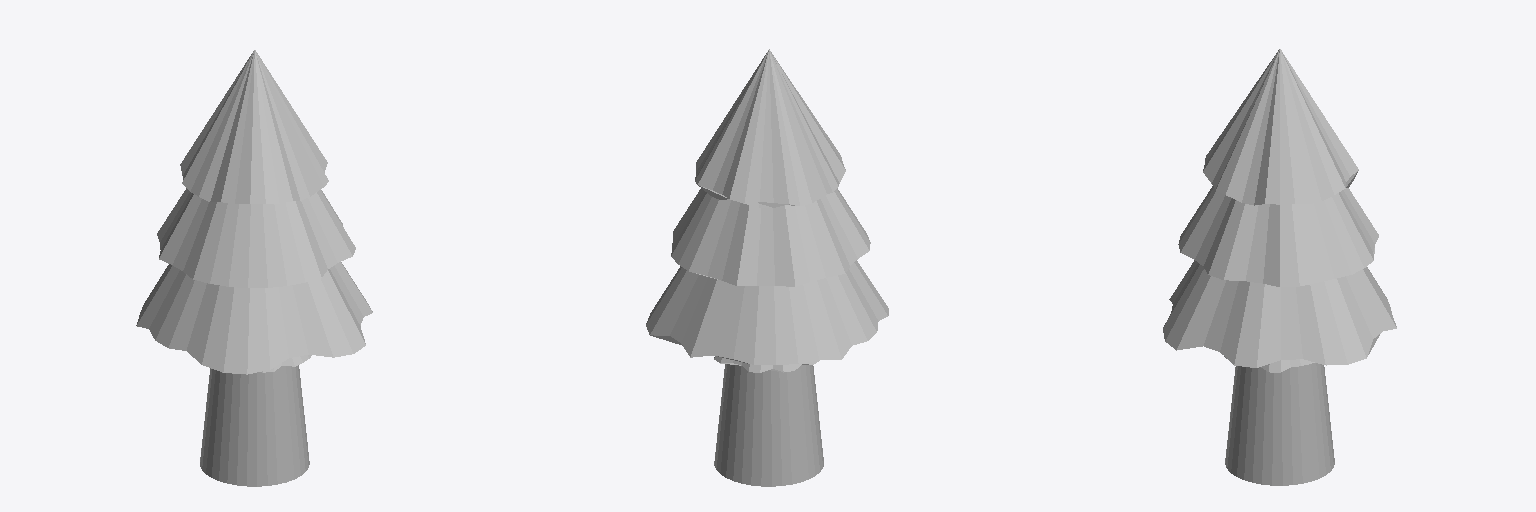
The model's file is tree4.obj.
The picture shows the model from 3 angles: view 1: azimuth 30°, elevation 25°; view 2: azimuth 150°, elevation 25°; view 3: azimuth 270°, elevation 25°; orthographic projection.
Parts seen in each view (by area): view 1: Cone.001, Cone.002, Cone.003, Cylinder; view 2: Cone.001, Cone.002, Cone.003, Cylinder, Cone; view 3: Cone.001, Cone.002, Cone.003, Cylinder.
Boxes of the visible parts, box(x1,y1,x2,y2) form: Cone.001: box(136, 262, 372, 374); Cone.002: box(157, 188, 355, 287); Cone.003: box(180, 50, 328, 203); Cylinder: box(200, 365, 309, 486); Cone.001: box(646, 260, 888, 364); Cone.002: box(671, 188, 870, 286); Cone.003: box(695, 49, 845, 207); Cylinder: box(714, 364, 823, 486); Cone: box(714, 356, 819, 372); Cone.001: box(1163, 260, 1396, 367); Cone.002: box(1178, 186, 1378, 286); Cone.003: box(1203, 49, 1358, 205); Cylinder: box(1225, 363, 1334, 485).
Size of the model in its own units: 4.22 by 8.32 by 4.27.